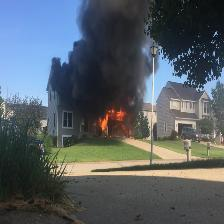fire: (107, 112, 125, 119), (102, 119, 108, 131)
smoke: (80, 0, 145, 109)
